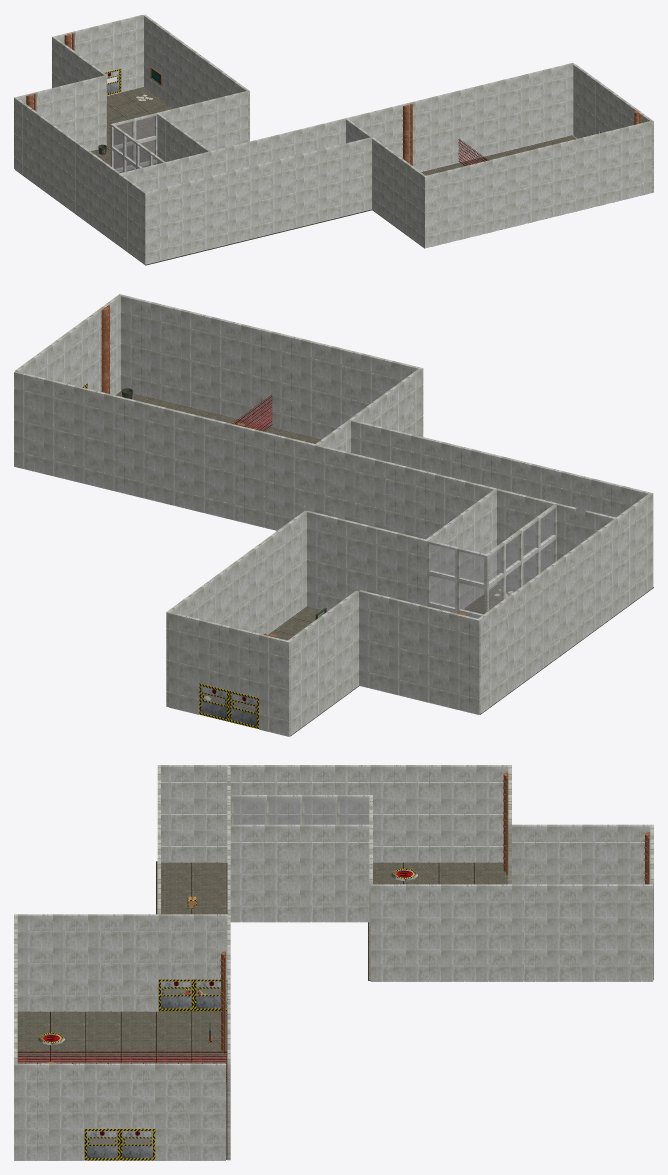
Rendered from Level1.fbx.
The picture shows the model from 3 angles, top to bottom: view 1: azimuth 30°, elevation 25°; view 2: azimuth 150°, elevation 25°; view 3: azimuth 270°, elevation 25°; orthographic projection. The views are drawn at different scales.
Visible parts, largest first — view 1: Wall_1, Wall_1.005, Wall_1.001, Wall_1.008, Wall_1.007, Floor, Wall_1.010, Wall_1.003, Wall_1.004, Wall_1.002, Wall_1.011, Wall_2 (+5 smaller); view 2: Wall_1, Wall_1.005, Wall_1.008, Wall_1.003, Wall_1.004, Wall_1.001, Wall_1.002, Wall_1.007, Wall_1.006, Wall_1.009, Wall_1.011, Wall_2.001 (+6 smaller); view 3: Wall_1.007, Wall_1.008, Wall_1.011, Wall_1.010, Floor, Wall_1.009, Wall_1.006, Wall_2.001, Door.003, Door.002, Laser, Wall_1 (+3 smaller).
Boxes of the visible parts, x1,y1,x2,y2 form: Wall_1: (120,63,573,191); Wall_1.005: (423,121,651,248); Wall_1.001: (144,137,371,264); Wall_1.008: (14,98,146,264); Wall_1.007: (143,14,249,141); Floor: (15,87,644,265); Wall_1.010: (346,118,425,246); Wall_1.003: (14,75,105,164); Wall_1.004: (52,15,143,92); Wall_1.002: (156,91,247,150); Wall_1.011: (573,64,653,192); Wall_2: (110,113,157,172); Wall_1: (14,371,615,589); Wall_1.005: (121,295,423,439); Wall_1.008: (476,493,652,714); Wall_1.003: (359,590,480,714); Wall_1.004: (168,612,290,736); Wall_1.001: (351,420,653,587); Wall_1.002: (307,511,428,611); Wall_1.007: (166,510,307,706); Wall_1.006: (288,590,358,735); Wall_1.009: (426,489,496,608); Wall_1.011: (15,294,122,394); Wall_2.001: (484,504,556,613); Wall_1.007: (370,884,652,981); Wall_1.008: (160,765,510,862); Wall_1.011: (14,1063,225,1160); Wall_1.010: (17,914,227,1011); Floor: (17,861,508,1159); Wall_1.009: (229,824,370,922); Wall_1.006: (512,824,652,884); Wall_2.001: (231,795,369,824); Door.003: (84,1128,155,1160); Door.002: (158,979,227,1010); Laser: (17,1051,227,1081); Wall_1: (227,766,230,1160).
Size of the model in its own units: 15075 by 2265 by 13594.
